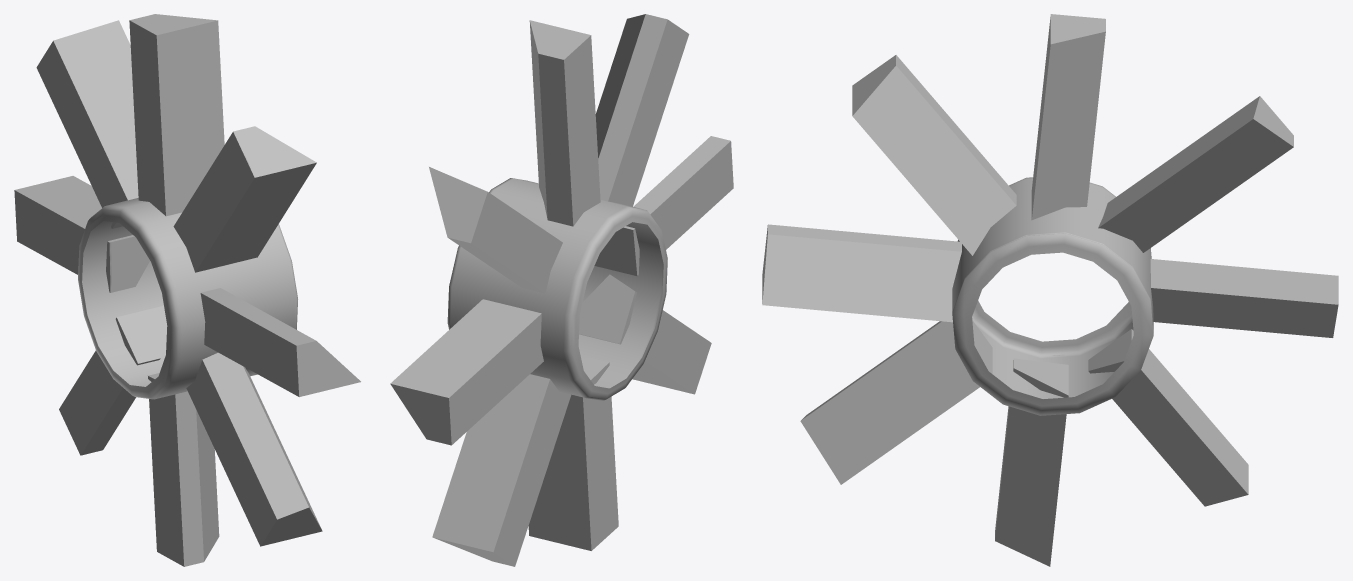
Rendered from TailPropeller.fbx.
3 views of the same model, side by side, from view 1: azimuth 30°, elevation 25°; view 2: azimuth 150°, elevation 25°; view 3: azimuth 270°, elevation 25° (orthographic).
Visible parts, largest first — view 1: Tailpropeller; view 2: Tailpropeller; view 3: Tailpropeller.
Part boxes in pixels (x1,y1,x2,y2): Tailpropeller: [14, 14, 360, 566]; Tailpropeller: [390, 14, 733, 566]; Tailpropeller: [762, 14, 1338, 566].
Bounding box in the file's own units: 14.42 × 56.32 × 56.32.
